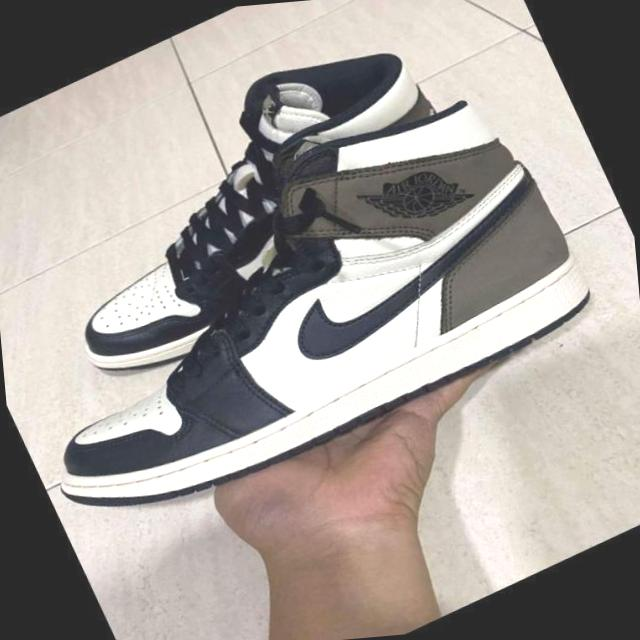nike_original_jordan: (0, 61, 621, 558), (0, 6, 505, 405)
